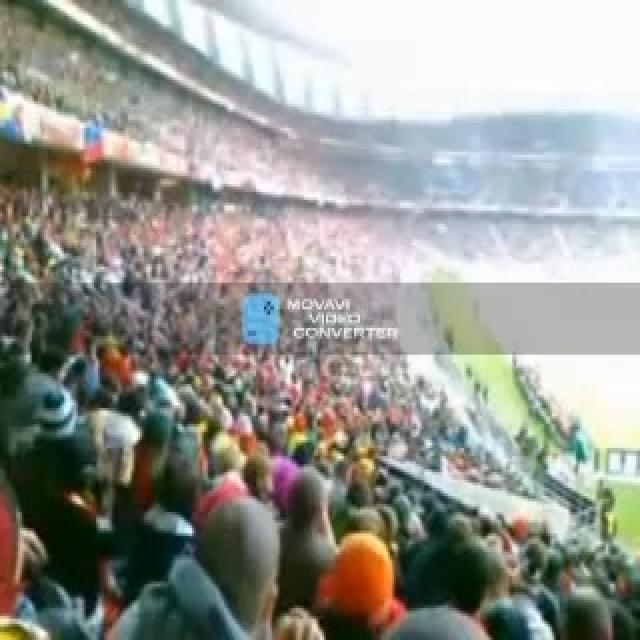non-voilence: (0, 173, 638, 638)
